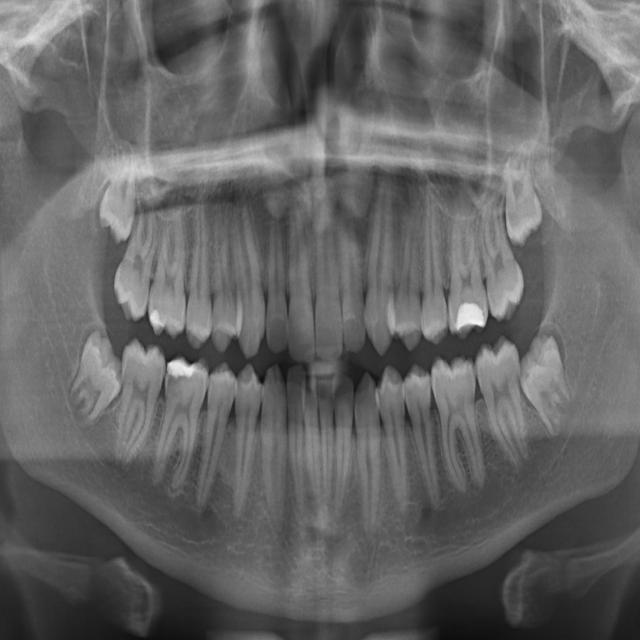CompositeResinRestoration: (454, 301, 485, 329), (169, 359, 199, 379), (149, 311, 162, 332)
DentalCaries: (165, 372, 180, 402)
ImpactedTooth: (64, 327, 125, 428)
